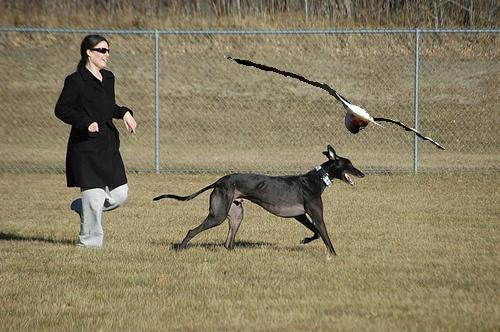tampered: (228, 58, 445, 150)
